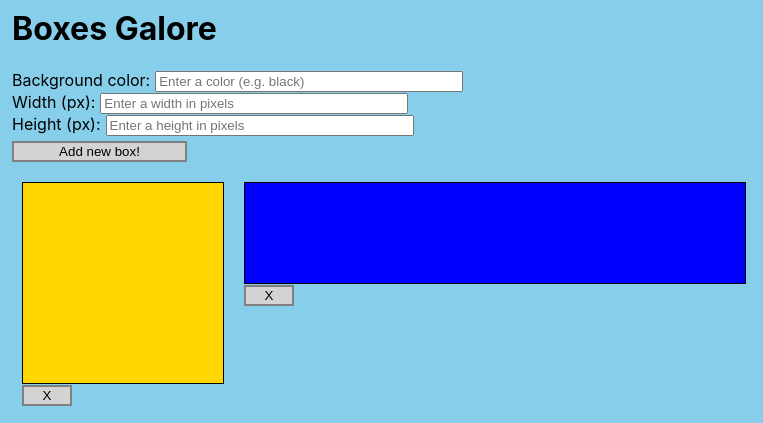
Scenario: Can remove boxes
This screenshot has width=763, height=423.
Expected: the element with test id "BoxList-list" is not empty, [22,182,746,406]
Step 1. Click the 2nd button "X" → (47, 395), box [22,385,72,406]
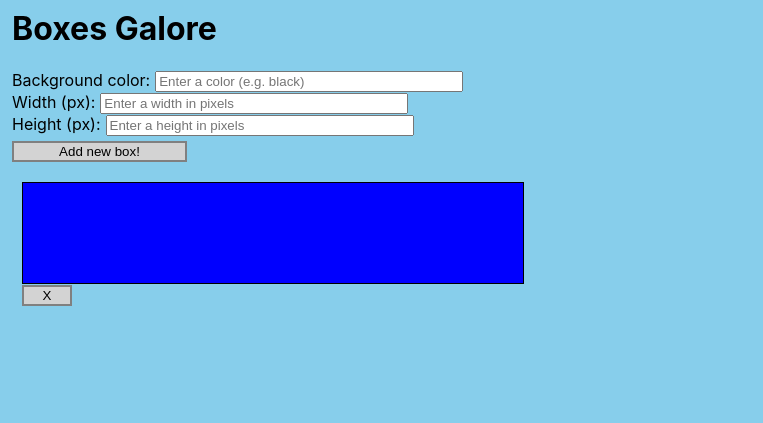
Step 2. Click the button "X" → (47, 295), box [22,285,72,306]
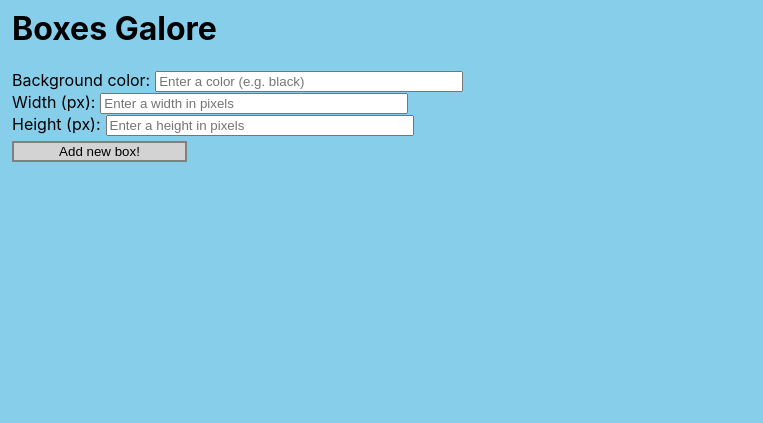
Expected: no elements with test id "Box" are shown
